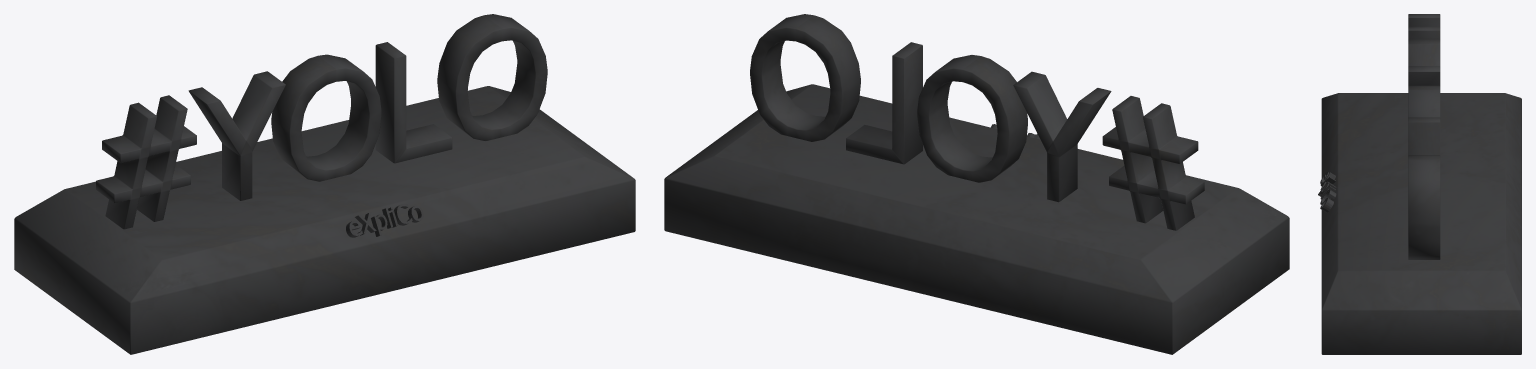
Rendered from rille.obj.
3 views of the same model, side by side, from view 1: azimuth 30°, elevation 25°; view 2: azimuth 150°, elevation 25°; view 3: azimuth 270°, elevation 25° (orthographic). The views are drawn at different scales.
Parts seen in each view (by area): view 1: rille triangle_done; view 2: rille triangle_done; view 3: rille triangle_done.
Part boxes in pixels (x1,y1,x2,y2): rille triangle_done: (14, 14, 635, 354); rille triangle_done: (664, 14, 1289, 354); rille triangle_done: (1318, 14, 1521, 354).
Bounding box in the file's own units: 46.88 × 16.56 × 19.04.
1 material, 1 textured.
